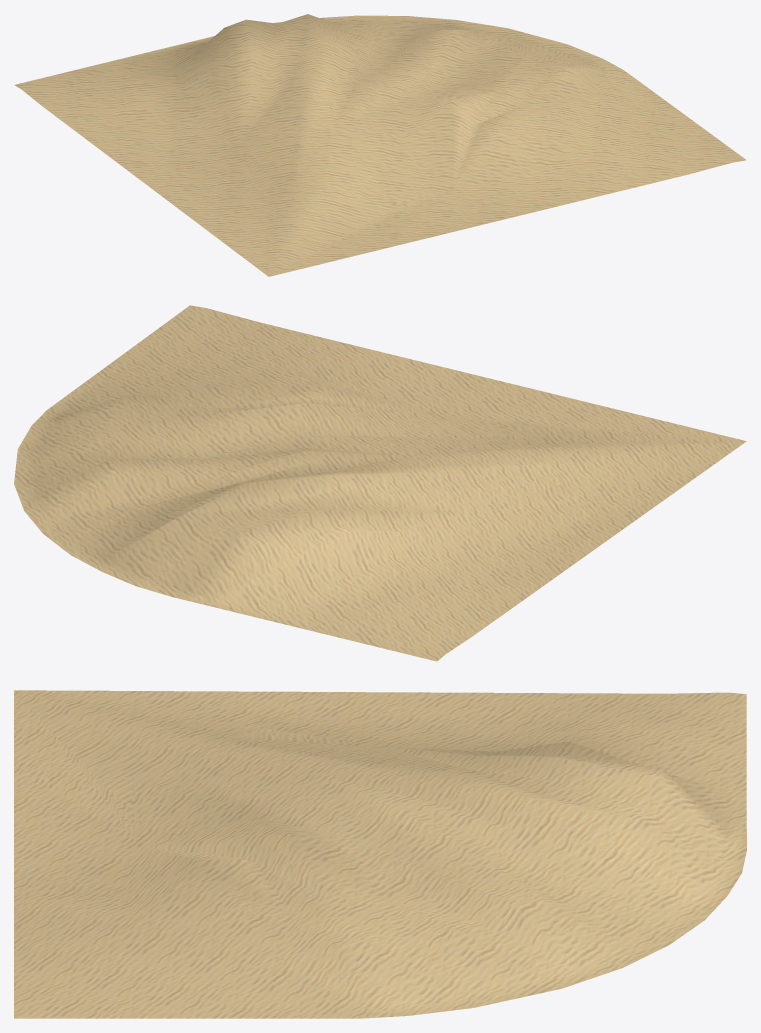
The model's file is SandHill_1.fbx.
3 renders of one model, top to bottom at view 1: azimuth 30°, elevation 25°; view 2: azimuth 150°, elevation 25°; view 3: azimuth 270°, elevation 25°, orthographic. The views are drawn at different scales.
Parts seen in each view (by area): view 1: SandHill_1; view 2: SandHill_1; view 3: SandHill_1.
Boxes of the visible parts, x1,y1,x2,y2 form: SandHill_1: [14, 14, 746, 276]; SandHill_1: [14, 305, 746, 661]; SandHill_1: [14, 690, 746, 1018].
Bounding box in the file's own units: 202 × 16.4 × 190.
